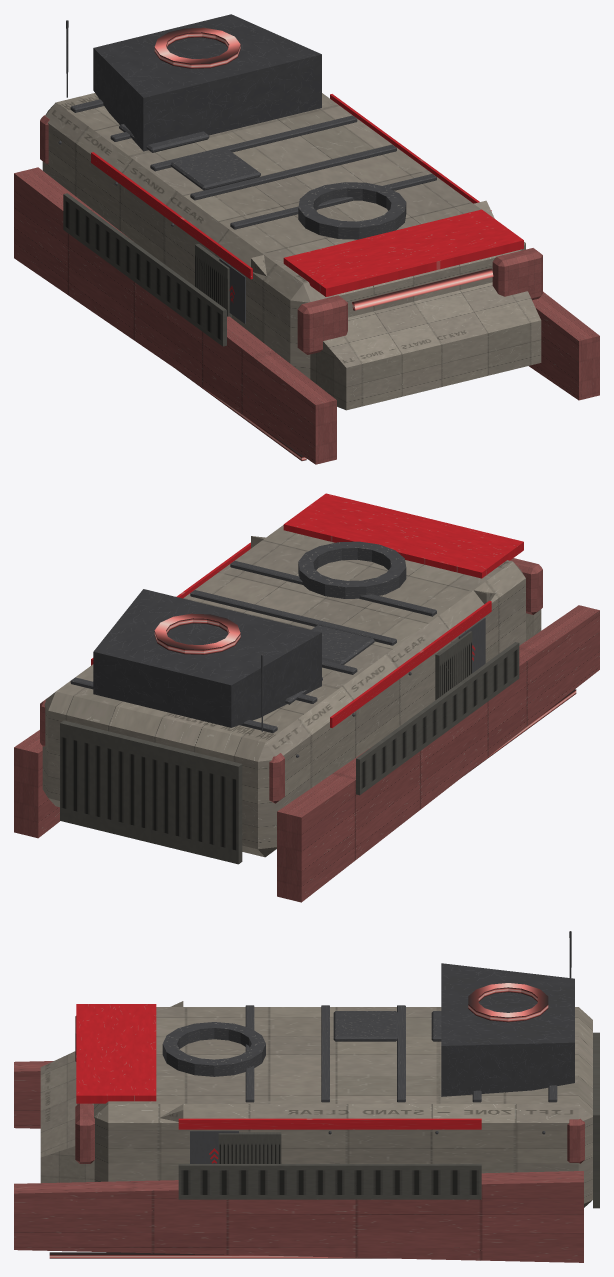
The model's file is apc.obj.
The picture shows the model from 3 angles, top to bottom: view 1: azimuth 30°, elevation 25°; view 2: azimuth 150°, elevation 25°; view 3: azimuth 270°, elevation 25°; orthographic projection. The views are drawn at different scales.
Visible parts, largest first — view 1: aegis; view 2: aegis; view 3: aegis.
Boxes of the visible parts, x1=… form: aegis: x1=14, y1=14, x2=599, y2=464; aegis: x1=14, y1=493, x2=599, y2=902; aegis: x1=14, y1=931, x2=599, y2=1262.
Bounding box in the file's own units: 3.65 × 2.72 × 6.58.
Materials: 1 (1 with a texture image).
